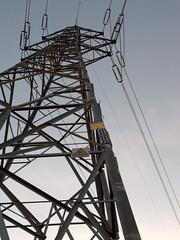power_tower: (1, 12, 137, 240)
